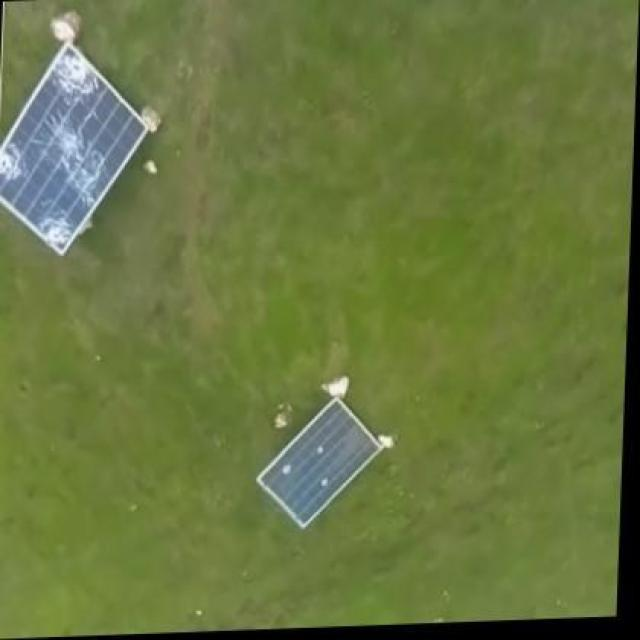cracked: (3, 42, 154, 260)
soiled: (256, 400, 384, 530)
